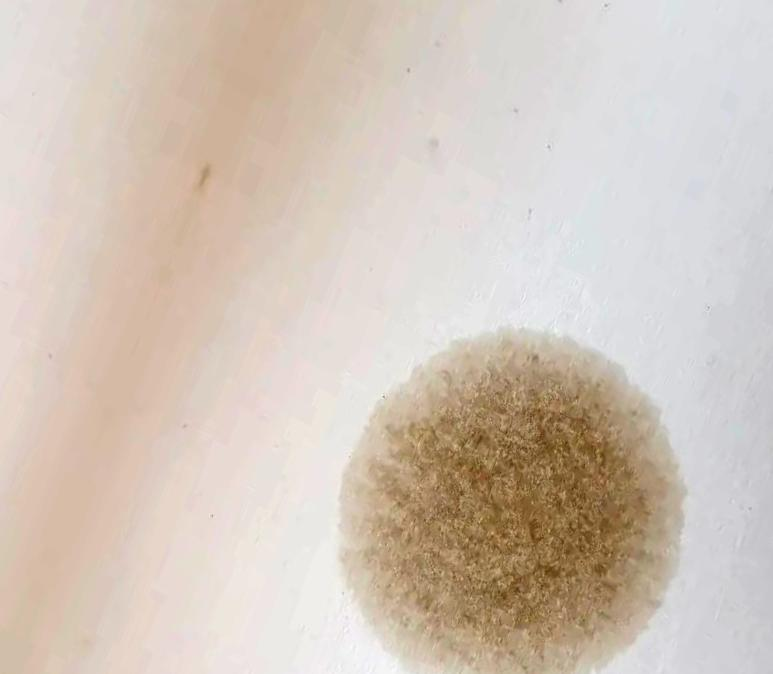stain: (323, 326, 692, 673)
